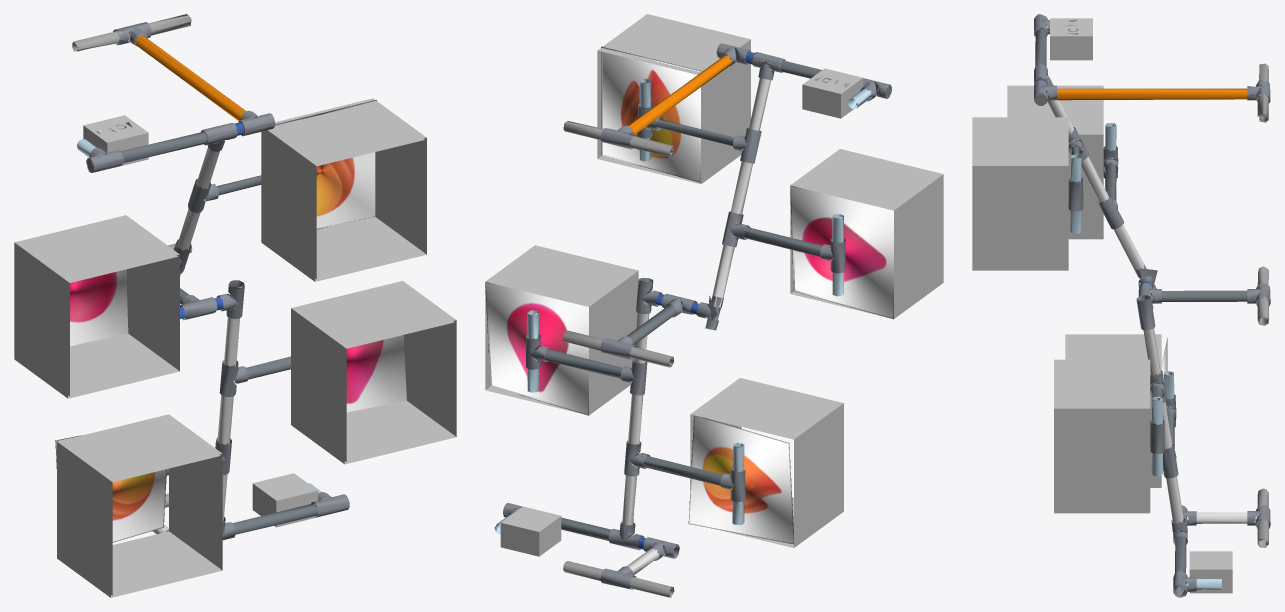
File: bins_v2.obj
3 views of the same model, side by side, from view 1: azimuth 30°, elevation 25°; view 2: azimuth 150°, elevation 25°; view 3: azimuth 270°, elevation 25° (orthographic). The views are drawn at different scales.
Visible parts, largest first — view 1: mesh44.002, mesh44, mesh44.001, mesh44.003, mesh43.002, mesh43.003, mesh43, mesh43.001, mesh47.001, mesh47.003, mesh47.002, mesh47 (+19 smaller); view 2: mesh45.003, mesh51.002, mesh45.001, mesh45.002, mesh44, mesh44.002, mesh43.002, mesh43.003, mesh43, mesh43.001, mesh44.003, mesh44.001 (+16 smaller); view 3: mesh42.003, mesh42.001, mesh43.002, mesh43.001, mesh43.003, mesh43, mesh42, mesh62, mesh67, mesh35.004, mesh68.001, mesh69.001 (+14 smaller).
Boxes of the visible parts, x1,y1,x2,y2 form: mesh44.002: (14,242,67,398); mesh44: (57,442,110,597); mesh44.001: (291,308,344,463); mesh44.003: (261,130,314,281); mesh43.002: (291,281,456,347); mesh43.003: (14,215,179,281); mesh43: (57,414,221,480); mesh43.001: (268,98,426,164); mesh47.001: (127,257,178,369); mesh47.003: (169,456,220,568); mesh47.002: (375,140,425,252); mesh47: (403,322,454,435); mesh45.003: (790,185,893,319); mesh51.002: (688,415,793,544); mesh45.001: (485,282,588,415); mesh45.002: (601,46,702,182); mesh44: (794,403,843,547); mesh44.002: (894,174,943,318); mesh43.002: (485,245,638,306); mesh43.003: (790,149,943,210); mesh43: (690,378,843,439); mesh43.001: (597,14,750,74); mesh44.003: (701,39,750,183); mesh44.001: (589,271,638,415); mesh42.003: (1054,408,1150,513); mesh42.001: (972,166,1068,270); mesh43.002: (1054,359,1150,408); mesh43.001: (972,117,1068,165); mesh43.003: (1007,85,1103,134); mesh43: (1065,334,1161,370); mesh42: (1068,134,1103,239); mesh62: (1048,89,1256,100); mesh67: (1050,36,1092,60); mesh35.004: (1152,290,1256,301); mesh68.001: (1189,551,1232,569); mesh69.001: (1050,18,1092,36).
Bounding box in the file's own units: 1.24 × 1.44 × 0.8659.
